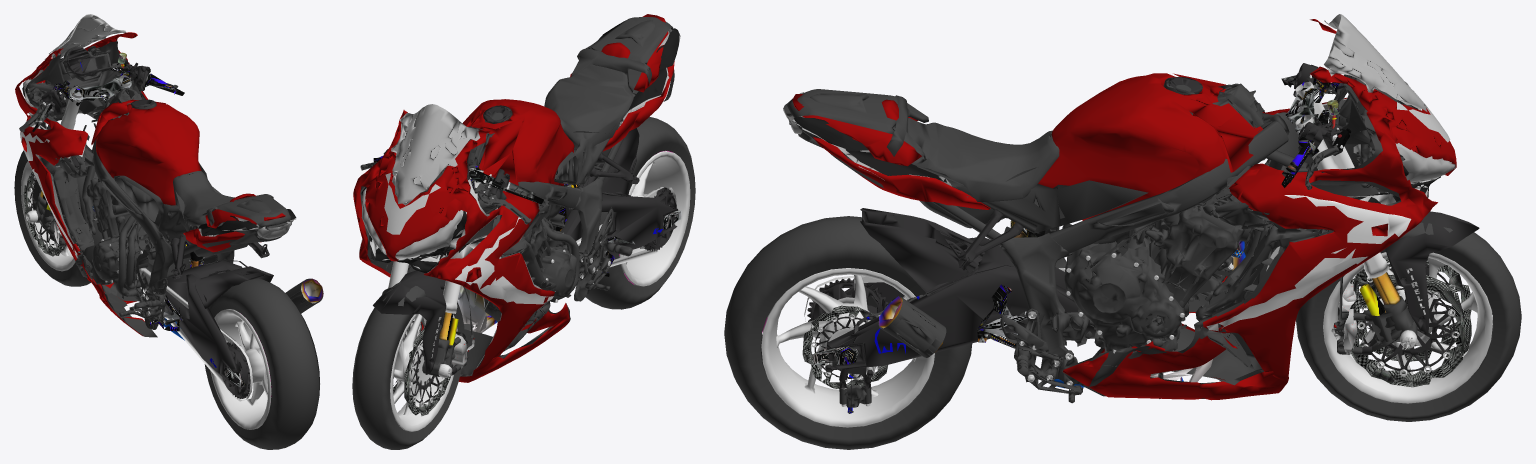
The model's file is cbr650.glb.
The picture shows the model from 3 angles, left to right: view 1: azimuth 30°, elevation 25°; view 2: azimuth 150°, elevation 25°; view 3: azimuth 270°, elevation 25°; orthographic projection. The views are drawn at different scales.
Visible parts, largest first — view 1: skp42AE, G-__555564; view 2: skp42AE, G-__555564; view 3: skp42AE, G-__555573, G-__555564.
Boxes of the visible parts, <box> form: skp42AE: <box>14,14,323,449</box>; G-__555564: <box>91,99,165,144</box>; skp42AE: <box>352,14,695,449</box>; G-__555564: <box>466,107,523,185</box>; skp42AE: <box>724,14,1521,449</box>; G-__555573: <box>917,166,1148,233</box>; G-__555564: <box>1173,73,1265,172</box>.
Size of the model in its own units: 0.7241 by 1.35 by 2.27.
17 materials, 7 textured.
